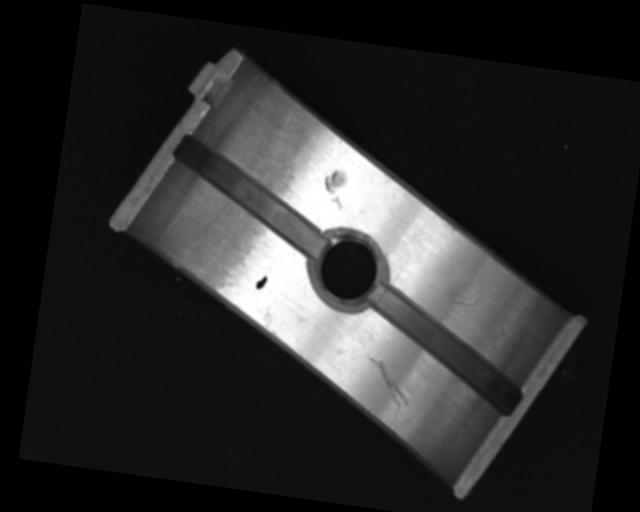blot: (255, 273, 268, 291)
bruise: (320, 166, 348, 212)
gap: (357, 280, 536, 416), (161, 132, 336, 258)
hole: (307, 228, 392, 313)
nick: (363, 353, 415, 410), (449, 295, 478, 308)
